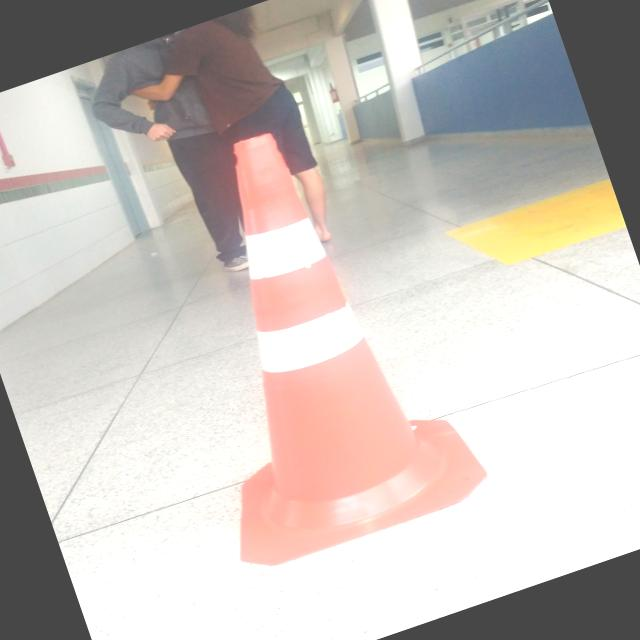cone: (131, 101, 484, 583)
